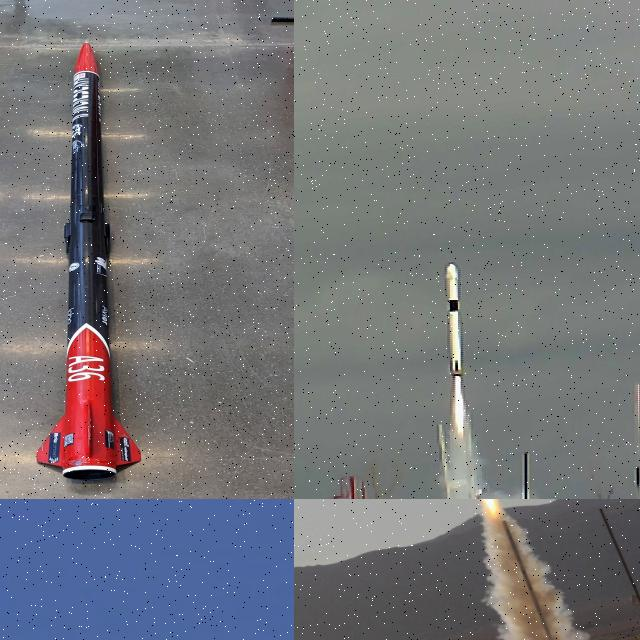Rocket: (36, 41, 142, 481), (443, 260, 465, 378)
